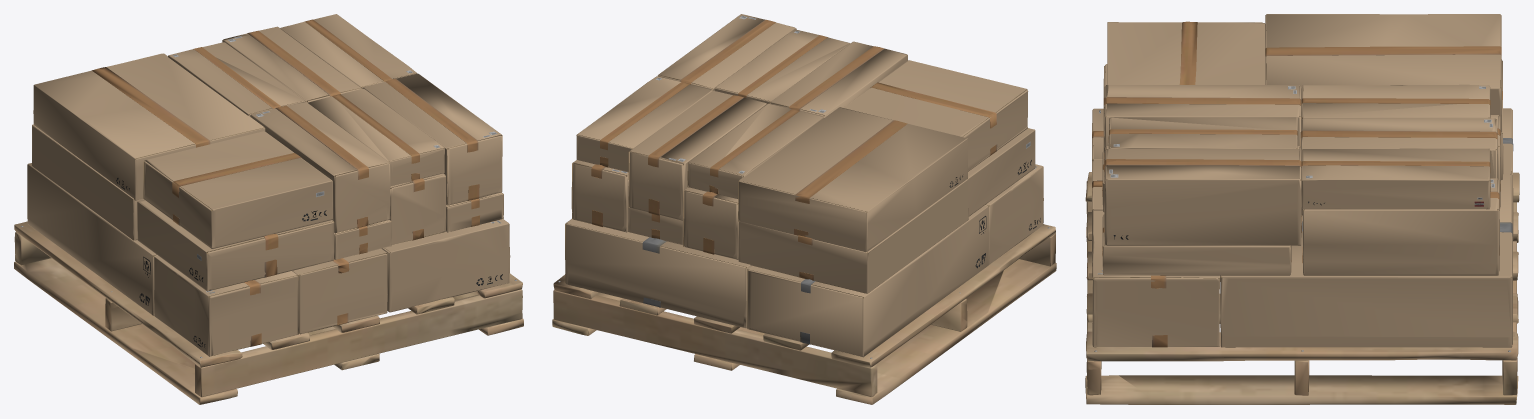
The model's file is pallet_wrapped.glb.
The picture shows the model from 3 angles, left to right: view 1: azimuth 30°, elevation 25°; view 2: azimuth 150°, elevation 25°; view 3: azimuth 270°, elevation 25°; orthographic projection. The views are drawn at different scales.
Parts seen in each view (by area): view 1: body; view 2: body; view 3: body.
Part boxes in pixels (bbox=[...]): body: bbox=[14, 14, 523, 404]; body: bbox=[552, 14, 1056, 404]; body: bbox=[1085, 14, 1519, 404].
Size of the model in its own units: 0.9014 by 0.5051 by 0.9035.
Materials: 5 (4 with a texture image).
